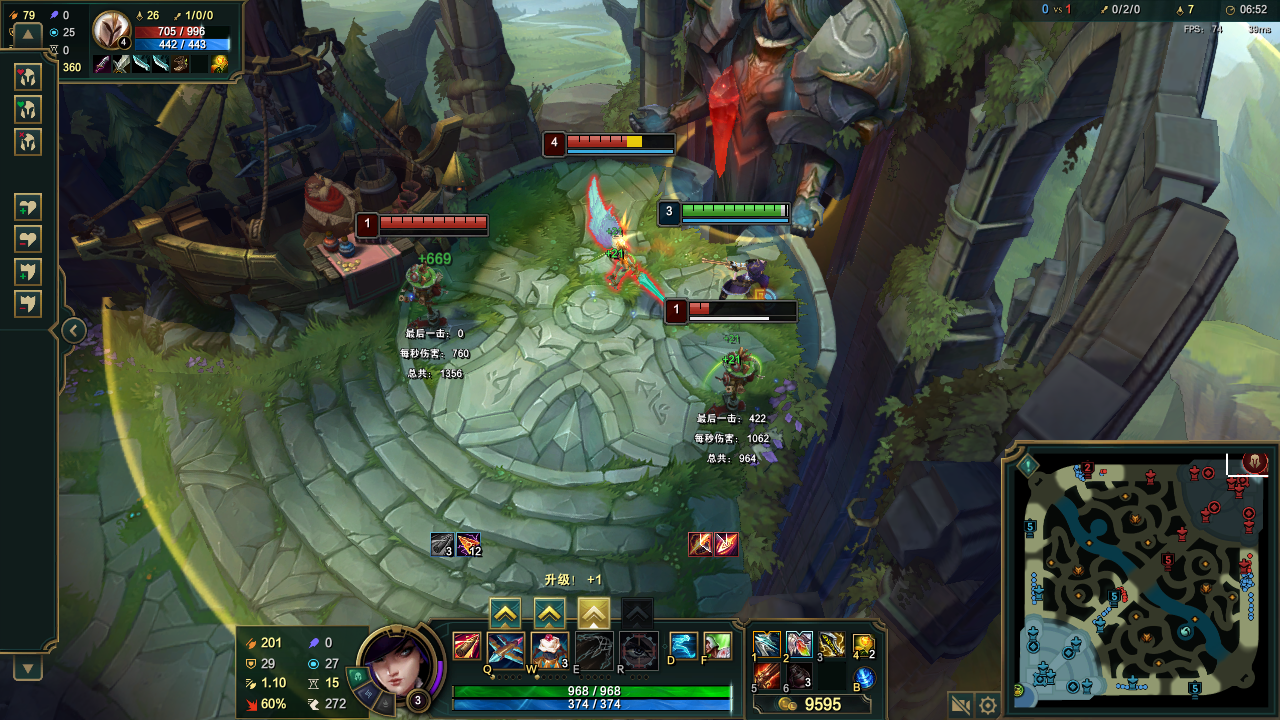DFYX: (686, 295, 811, 315), (382, 212, 495, 229), (566, 129, 683, 145)
